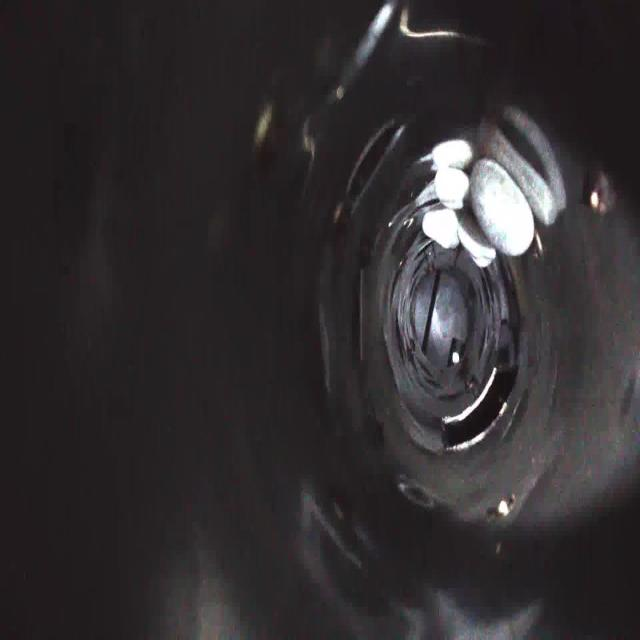crack: (387, 267, 410, 353), (480, 272, 508, 326)
hole: (446, 368, 523, 454)
